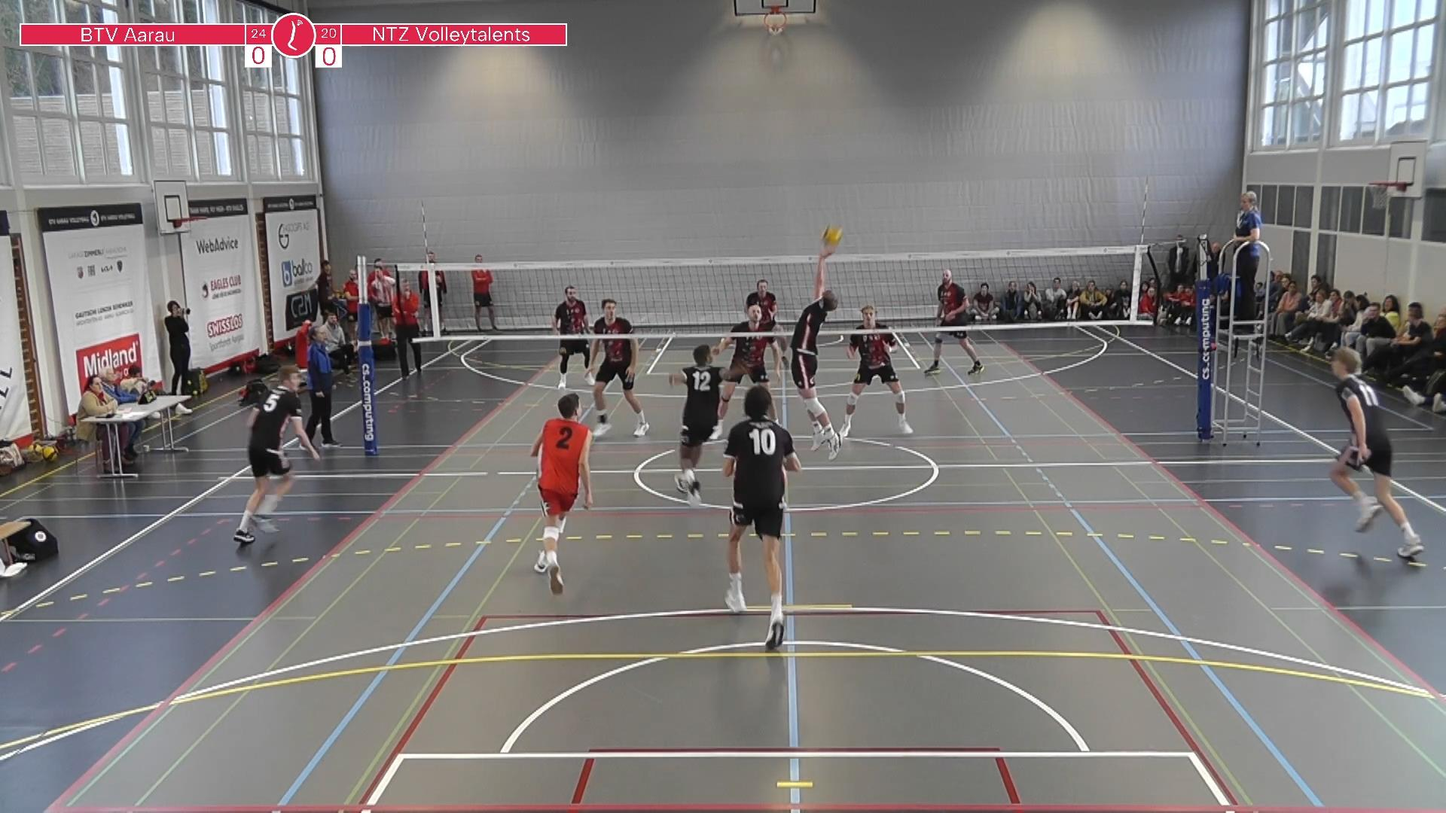Player: (723, 385, 801, 650), (1331, 348, 1423, 557), (233, 365, 319, 544), (530, 393, 592, 593), (840, 305, 912, 437), (669, 344, 722, 506), (587, 298, 648, 437), (715, 303, 782, 421), (925, 269, 982, 374), (552, 286, 594, 388), (746, 279, 777, 322)
Set: (791, 245, 851, 463)
ball: (817, 222, 847, 253)
